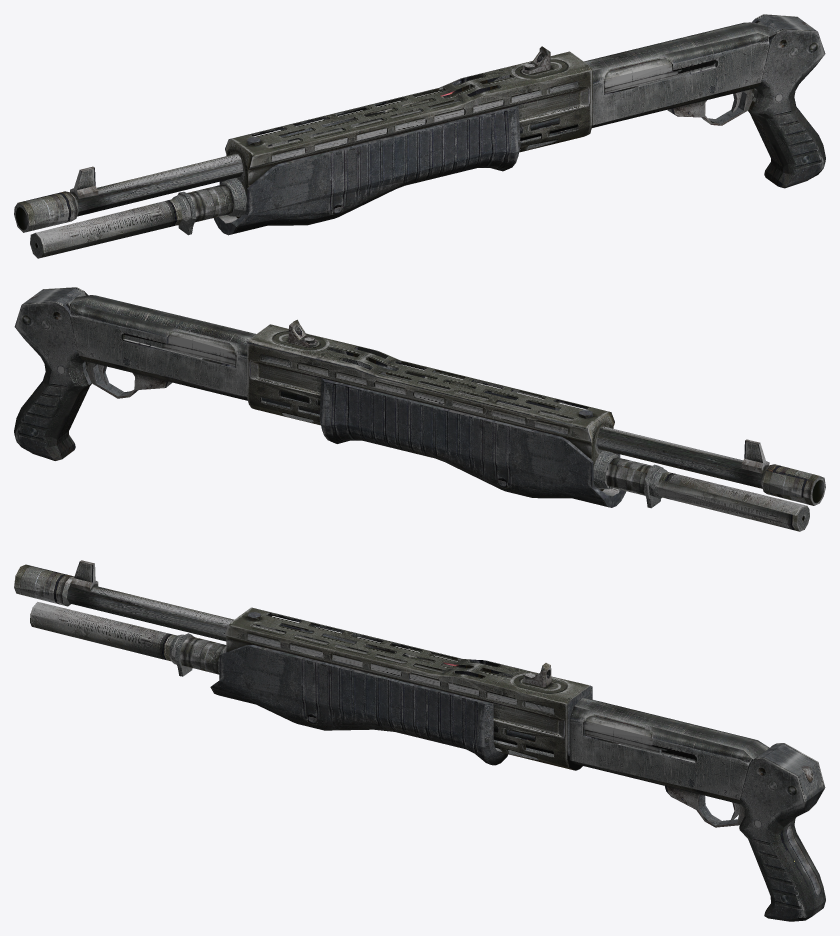
File: w_spas12.obj
The picture shows the model from 3 angles, top to bottom: view 1: azimuth 30°, elevation 25°; view 2: azimuth 150°, elevation 25°; view 3: azimuth 330°, elevation 25°; orthographic projection.
Visible parts, largest first — view 1: Spas12; view 2: Spas12; view 3: Spas12.
Part boxes in pixels (left/top/right/bottom): Spas12: left=14, top=14, right=825, bottom=258; Spas12: left=14, top=287, right=825, bottom=531; Spas12: left=14, top=560, right=825, bottom=921.
Bounding box in the file's own units: 10.98 × 2.52 × 0.8233.
